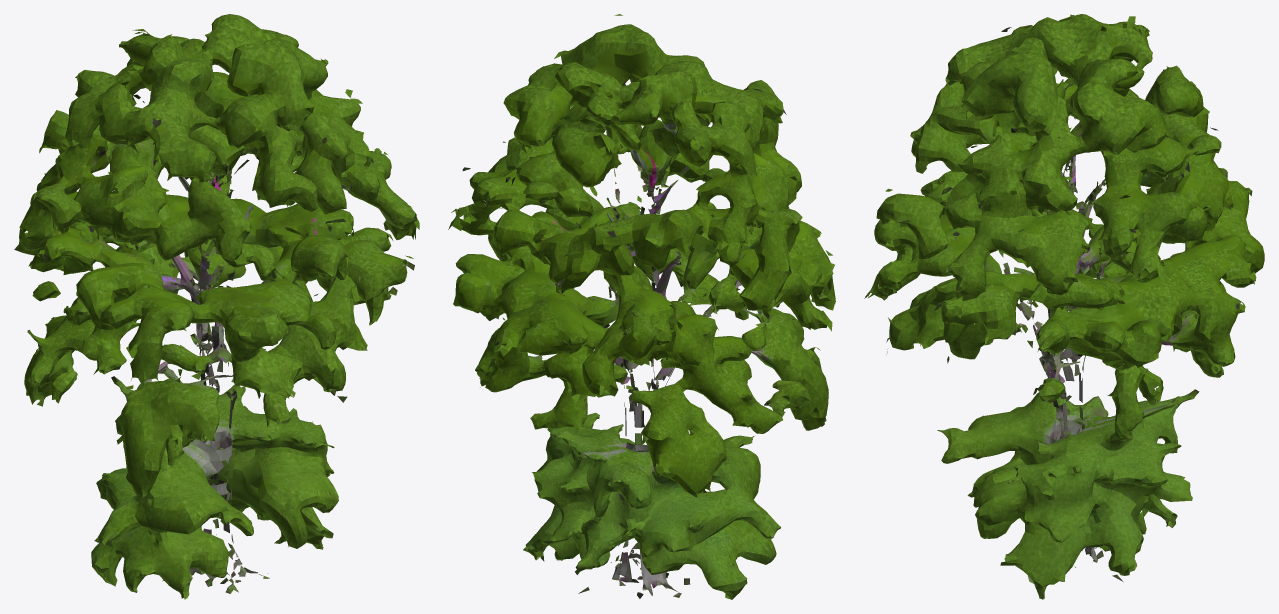
The model's file is veg_tree_beech_01.glb.
3 views of the same model, side by side, from view 1: azimuth 30°, elevation 25°; view 2: azimuth 150°, elevation 25°; view 3: azimuth 270°, elevation 25° (orthographic).
Parts seen in each view (by area): view 1: veg_tree_beech_01; view 2: veg_tree_beech_01; view 3: veg_tree_beech_01.
Boxes of the visible parts, x1,y1,x2,y2 form: veg_tree_beech_01: (14,14,419,599); veg_tree_beech_01: (448,14,835,599); veg_tree_beech_01: (864,14,1264,599).
Bounding box in the file's own units: 11.22 × 17.11 × 11.5.
Materials: 1 (1 with a texture image).
